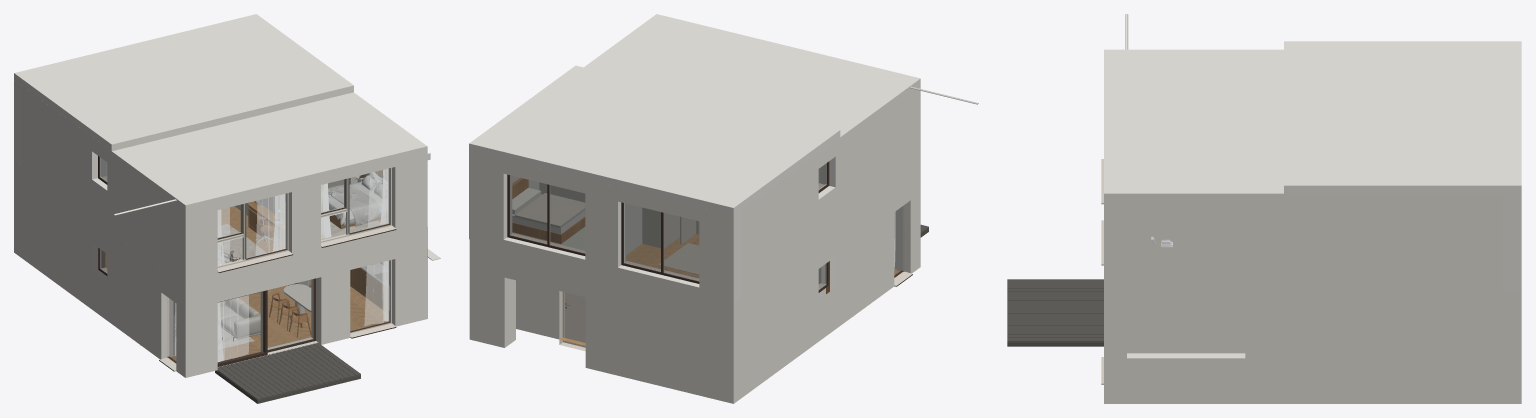
Rendered from bor2-wnetrze-dom2.glb.
3 views of the same model, side by side, from view 1: azimuth 30°, elevation 25°; view 2: azimuth 150°, elevation 25°; view 3: azimuth 270°, elevation 25° (orthographic). The views are drawn at different scales.
Visible parts, largest first — view 1: KOND_1__SUFIT, KOND_0__WNETRZE, KOND_1__WNETRZE, KOND_0__TRANSPARENT, KOND_1__TRANSPARENT, KOND_0__PODLOGA, KOND_0__DETALE, KOND_1__PODLOGA, KOND_1__DETALE; view 2: KOND_1__SUFIT, KOND_0__WNETRZE, KOND_1__WNETRZE, KOND_1__TRANSPARENT, KOND_1__DETALE, KOND_1__PODLOGA, KOND_0__TRANSPARENT; view 3: KOND_1__WNETRZE, KOND_1__SUFIT, KOND_0__WNETRZE.
Boxes of the visible parts, bbox=[...] form: KOND_1__SUFIT: bbox=[14, 14, 426, 214]; KOND_0__WNETRZE: bbox=[14, 161, 440, 403]; KOND_1__WNETRZE: bbox=[14, 80, 427, 318]; KOND_0__TRANSPARENT: bbox=[100, 249, 389, 363]; KOND_1__TRANSPARENT: bbox=[100, 158, 388, 265]; KOND_0__PODLOGA: bbox=[105, 253, 388, 360]; KOND_0__DETALE: bbox=[173, 266, 382, 342]; KOND_1__PODLOGA: bbox=[221, 206, 380, 252]; KOND_1__DETALE: bbox=[223, 153, 430, 261]; KOND_1__SUFIT: bbox=[469, 14, 977, 215]; KOND_0__WNETRZE: bbox=[469, 167, 928, 403]; KOND_1__WNETRZE: bbox=[469, 79, 978, 303]; KOND_1__TRANSPARENT: bbox=[510, 163, 826, 280]; KOND_1__DETALE: bbox=[512, 188, 699, 274]; KOND_1__PODLOGA: bbox=[512, 232, 699, 278]; KOND_0__TRANSPARENT: bbox=[818, 207, 901, 289]; KOND_1__WNETRZE: bbox=[1101, 14, 1521, 403]; KOND_1__SUFIT: bbox=[1104, 14, 1521, 193]; KOND_0__WNETRZE: bbox=[1007, 279, 1245, 384].
Bounding box in the file's own units: 11.04 × 6.05 × 12.32.
20 materials, 7 textured.
